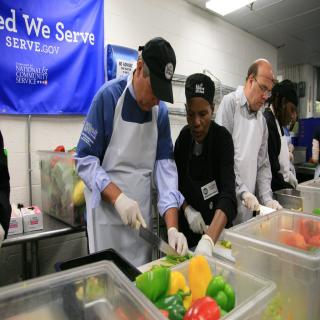Bell pepper: (136, 256, 236, 320)
